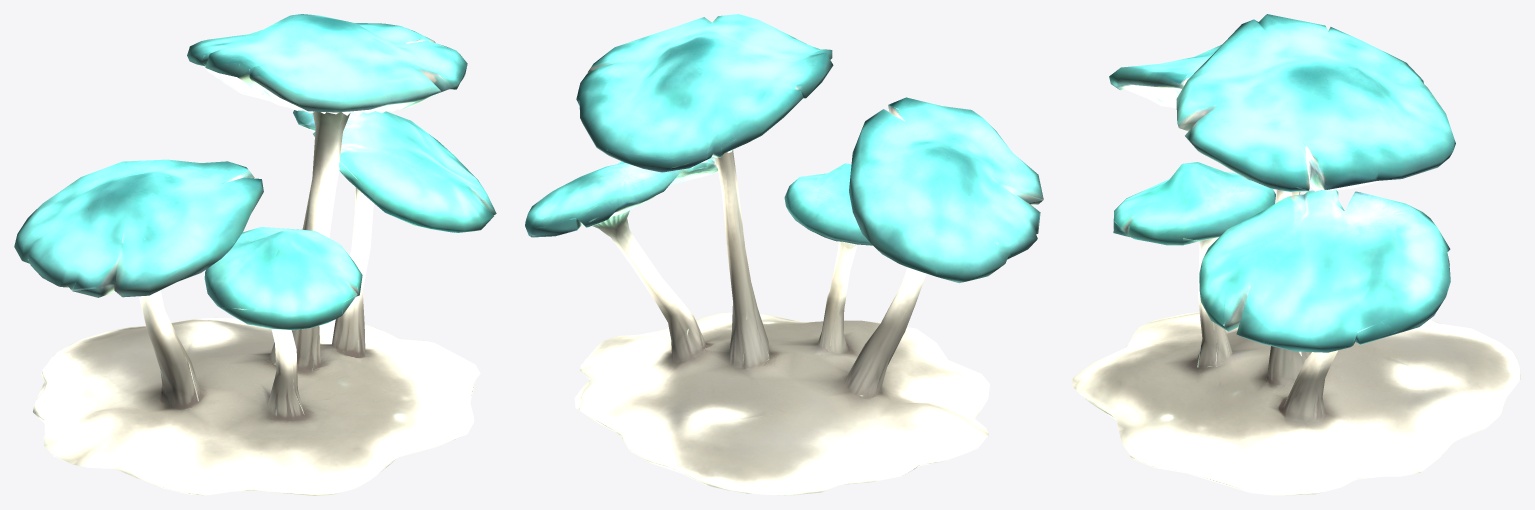
The picture shows the model from 3 angles, left to right: view 1: azimuth 30°, elevation 25°; view 2: azimuth 150°, elevation 25°; view 3: azimuth 270°, elevation 25°; orthographic projection. The views are drawn at different scales.
Visible parts, largest first — view 1: Mesh_0; view 2: Mesh_0; view 3: Mesh_0.
Part boxes in pixels (x1=…): Mesh_0: x1=14, y1=14, x2=496, y2=495; Mesh_0: x1=525, y1=14, x2=1043, y2=495; Mesh_0: x1=1072, y1=14, x2=1520, y2=495.
Size of the model in its own units: 1.91 by 1.42 by 1.58.
Materials: 1 (1 with a texture image).
